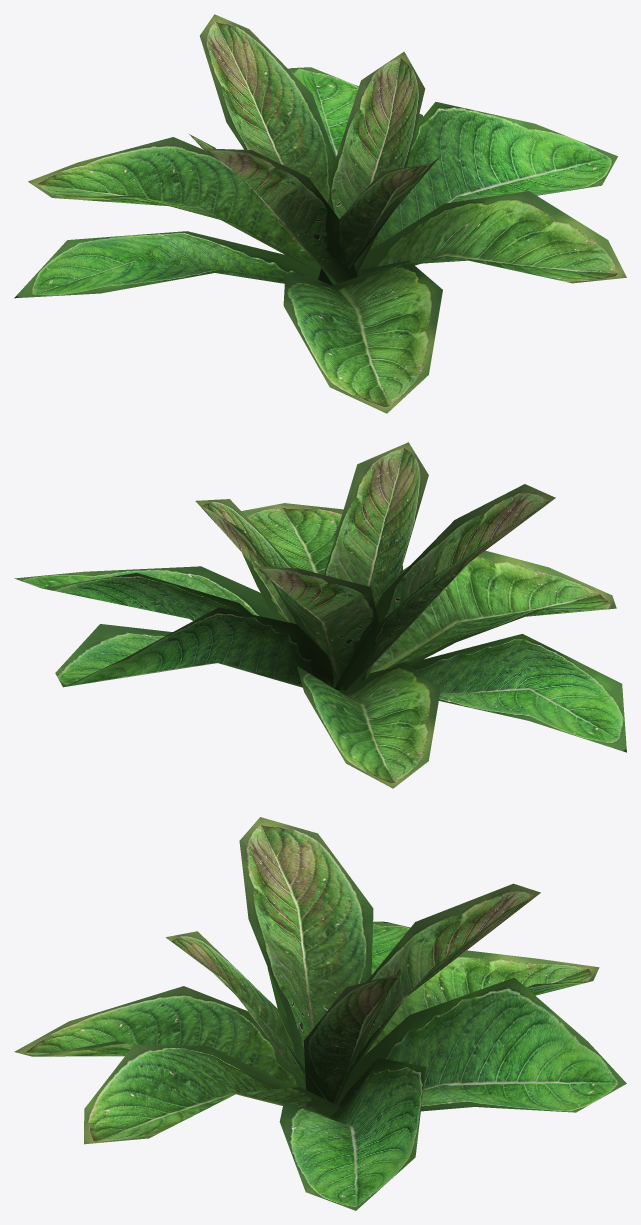
The model's file is Evening primrose_herbaceous_m.FBX.
3 renders of one model, top to bottom at view 1: azimuth 30°, elevation 25°; view 2: azimuth 150°, elevation 25°; view 3: azimuth 270°, elevation 25°, orthographic. The views are drawn at different scales.
Parts seen in each view (by area): view 1: Evening primrose_herbaceous; view 2: Evening primrose_herbaceous; view 3: Evening primrose_herbaceous.
Part boxes in pixels (x1,y1,x2,y2): Evening primrose_herbaceous: (14, 14, 626, 413); Evening primrose_herbaceous: (14, 442, 626, 788); Evening primrose_herbaceous: (14, 817, 626, 1210).
Size of the model in its own units: 49.25 by 16.9 by 42.78.
